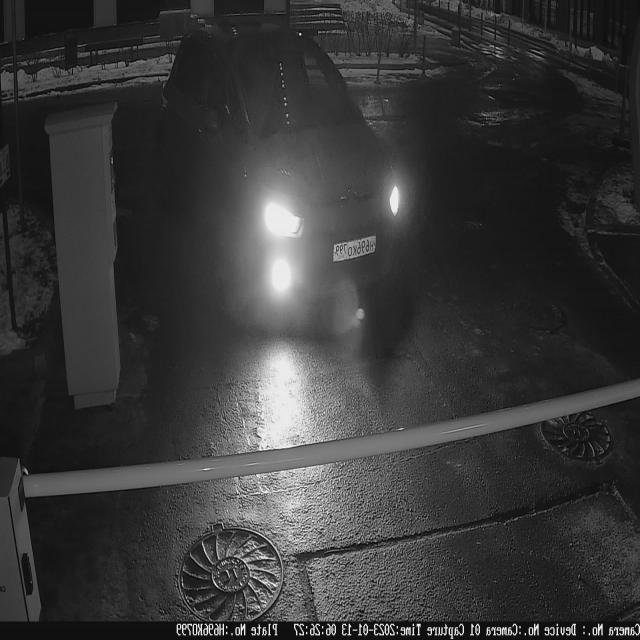car-plate-numbers: (333, 232, 380, 265)
